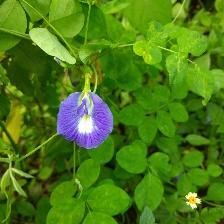shankupushpam: (55, 89, 117, 154)
